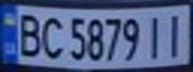5: (63, 14, 87, 62)
7: (103, 15, 124, 62)
8: (84, 15, 106, 62)
9: (121, 15, 145, 62)
B: (12, 10, 45, 57)
C: (36, 12, 66, 60)
I: (160, 10, 190, 60), (142, 12, 169, 61)
